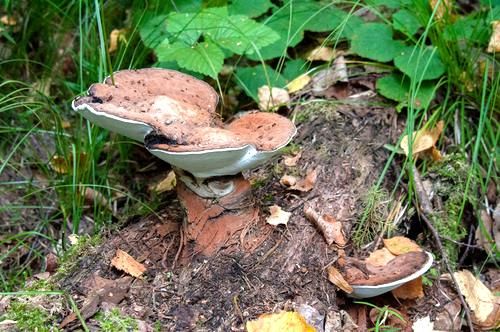Ganoderma - Fruit Body: (73, 68, 297, 180), (340, 249, 433, 300)
